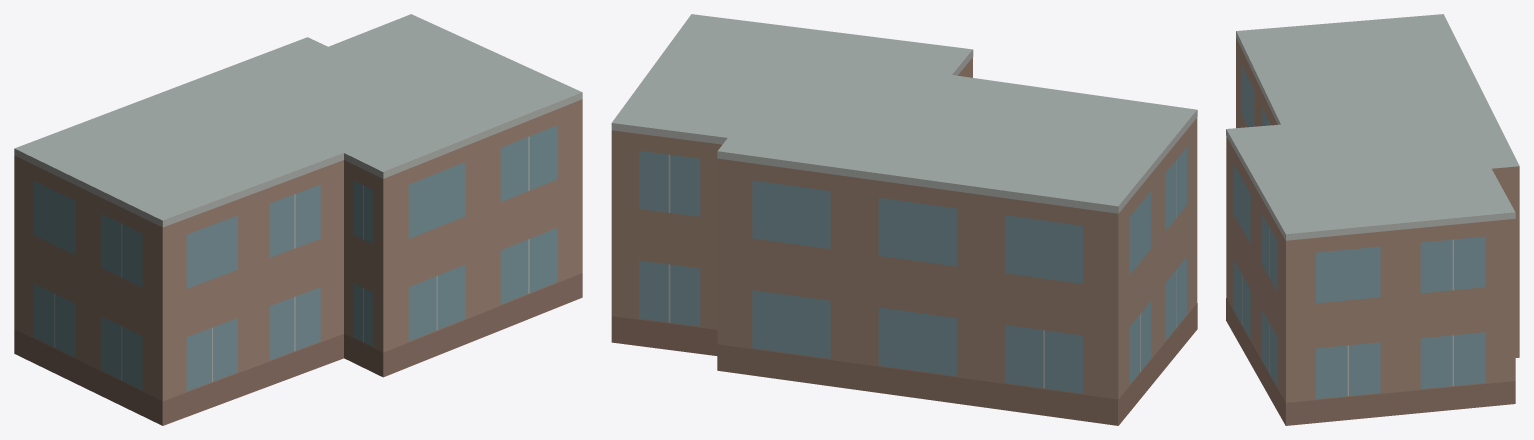
File: survey-upis-32745590.glb
3 renders of one model, left to right at view 1: azimuth 30°, elevation 25°; view 2: azimuth 150°, elevation 25°; view 3: azimuth 270°, elevation 25°, orthographic. The views are drawn at different scales.
Parts seen in each view (by area): view 1: survey-upis-32745590.tmp; view 2: survey-upis-32745590.tmp; view 3: survey-upis-32745590.tmp.
Boxes of the visible parts, box(x1,y1,x2,y2) form: survey-upis-32745590.tmp: box(14, 14, 582, 425); survey-upis-32745590.tmp: box(611, 14, 1197, 425); survey-upis-32745590.tmp: box(1226, 14, 1519, 425).
Size of the model in its own units: 18.02 by 7.3 by 10.15.
